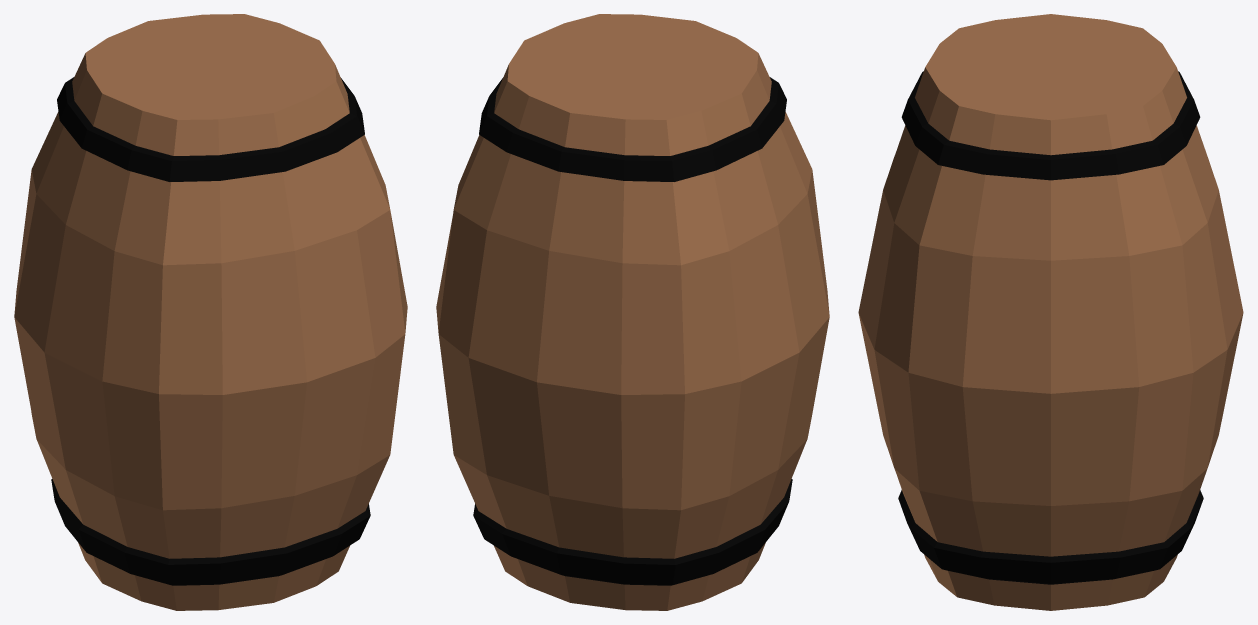
The model's file is Barrel.fbx.
3 views of the same model, side by side, from view 1: azimuth 30°, elevation 25°; view 2: azimuth 150°, elevation 25°; view 3: azimuth 270°, elevation 25° (orthographic).
Visible parts, largest first — view 1: Cube.002; view 2: Cube.002; view 3: Cube.002.
Part boxes in pixels (left/top/right/bottom): Cube.002: left=14, top=14, right=407, bottom=610; Cube.002: left=436, top=14, right=829, bottom=610; Cube.002: left=858, top=14, right=1243, bottom=610.
Bounding box in the file's own units: 200 × 281 × 200.
